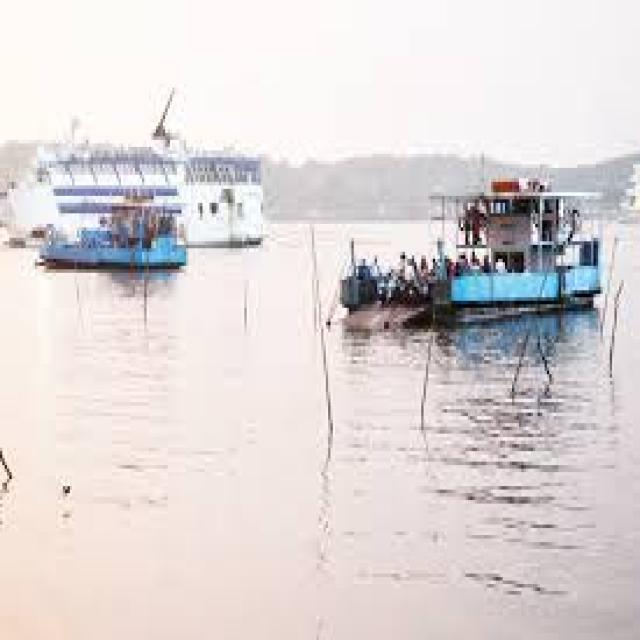cargoship: (6, 125, 272, 244)
fishing boat: (314, 150, 595, 307), (36, 191, 198, 269)
